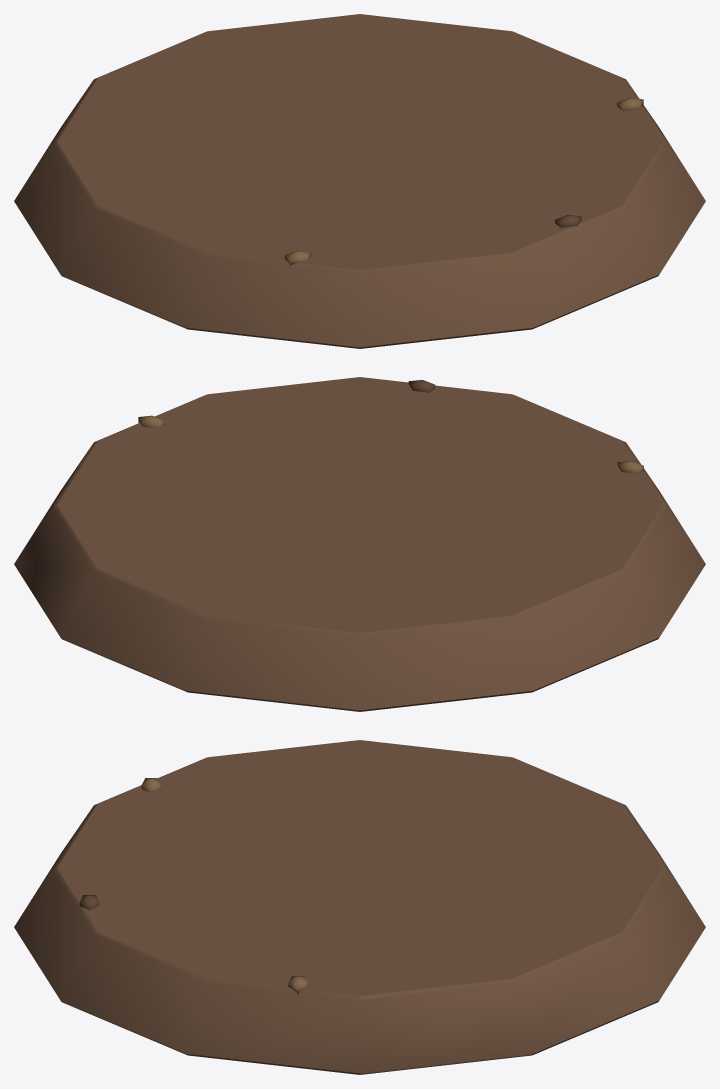
File: flower_stage0_low.glb
3 views of the same model, one above another, from view 1: azimuth 30°, elevation 25°; view 2: azimuth 150°, elevation 25°; view 3: azimuth 270°, elevation 25° (orthographic).
Size of the model in its own units: 0.3784 by 0.0415 by 0.3784.
